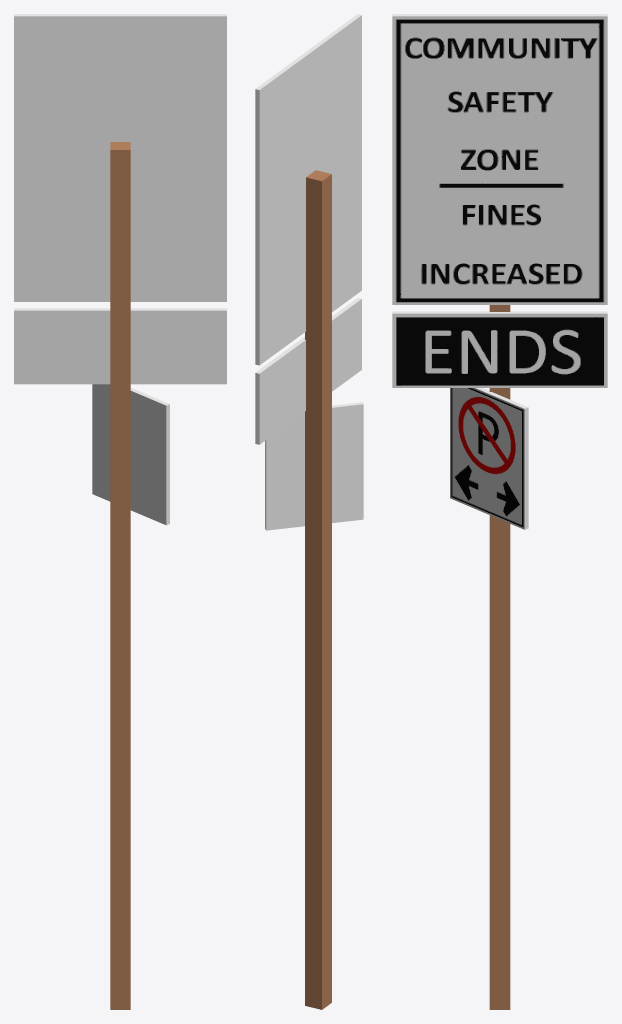
The model's file is sign5.fbx.
3 views of the same model, side by side, from view 1: azimuth 90°, elevation 25°; view 2: azimuth 150°, elevation 25°; view 3: azimuth 270°, elevation 25° (orthographic). The views are drawn at different scales.
Visible parts, largest first — view 1: Cylinder.003_Cylinder.000; view 2: Cylinder.003_Cylinder.000; view 3: Cylinder.003_Cylinder.000.
Part boxes in pixels (bbox=[...]): Cylinder.003_Cylinder.000: bbox=[14, 14, 226, 1009]; Cylinder.003_Cylinder.000: bbox=[255, 14, 363, 1009]; Cylinder.003_Cylinder.000: bbox=[392, 14, 607, 1009].
Bounding box in the file's own units: 28.5 × 398 × 78.03.
